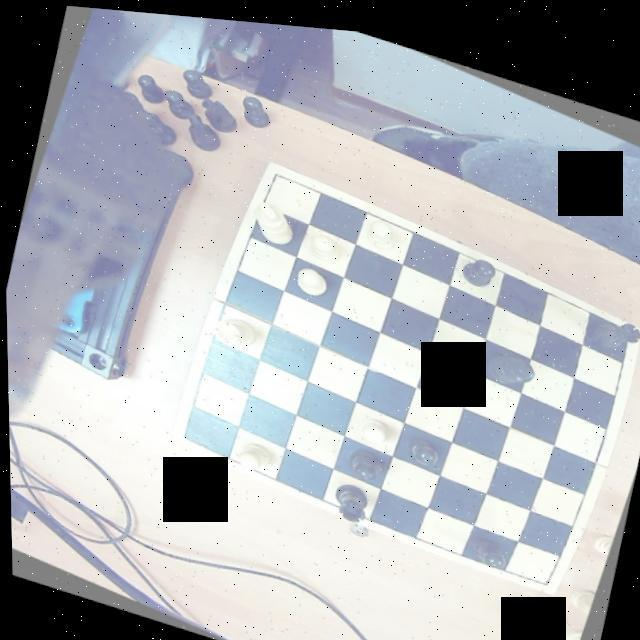chess-table-corners: (170, 416, 201, 446), (608, 306, 640, 332), (260, 158, 288, 186), (532, 558, 558, 584)
